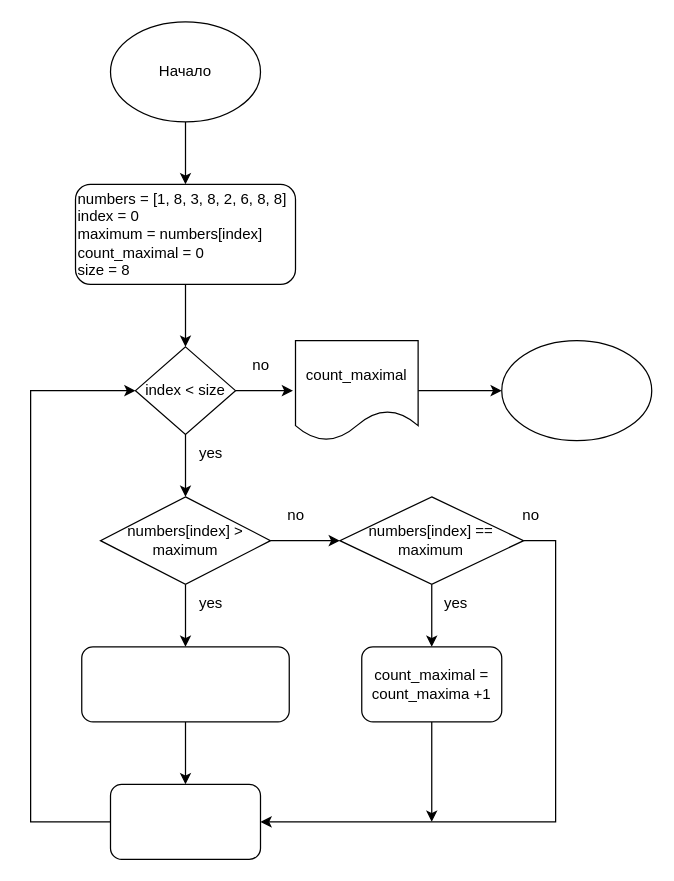
Image size: 674x881. Some labels were removed from this diagram. Each missing label, with the centre of its shape:
"index = index + 1" goes at point 184,821.
"maximum = numbers[index], count_maximal = 1" goes at point 184,684.
"Конец" goes at point 576,390.
